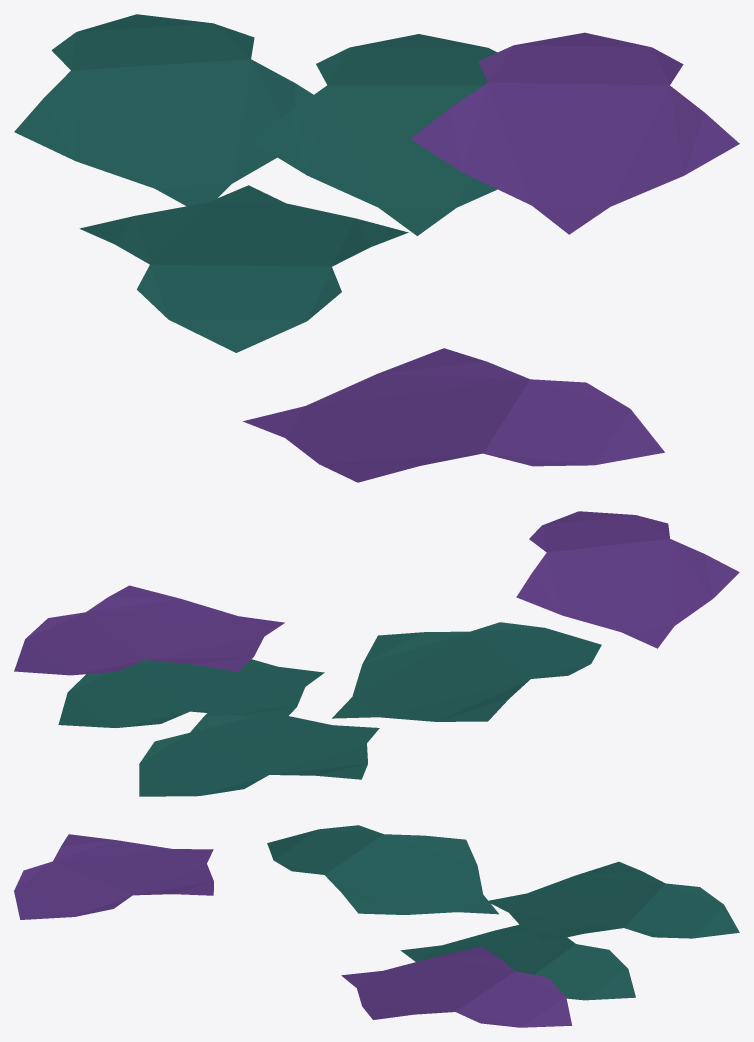
File: Fallen_Leaf.fbx
3 views of the same model, one above another, from view 1: azimuth 30°, elevation 25°; view 2: azimuth 150°, elevation 25°; view 3: azimuth 270°, elevation 25° (orthographic). The views are drawn at different scales.
Visible parts, largest first — view 1: Fallen_Leaf_Mesh; view 2: Fallen_Leaf_Mesh; view 3: Fallen_Leaf_Mesh.
Boxes of the visible parts, left/top/right/bottom form: Fallen_Leaf_Mesh: left=14, top=14, right=739, bottom=482; Fallen_Leaf_Mesh: left=14, top=511, right=739, bottom=796; Fallen_Leaf_Mesh: left=14, top=825, right=739, bottom=1027.
Size of the model in its own units: 0.3809 by 0.0275 by 0.5851.
